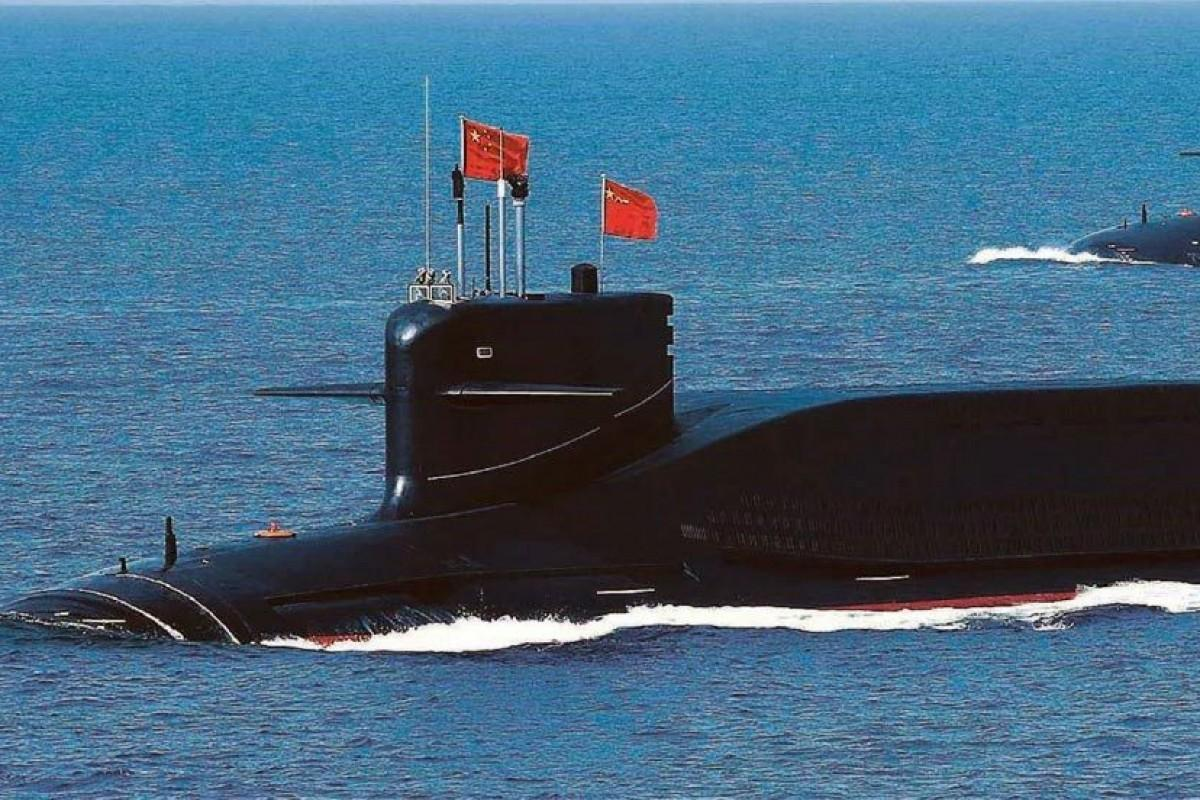Submarine: (8, 84, 1200, 768)
